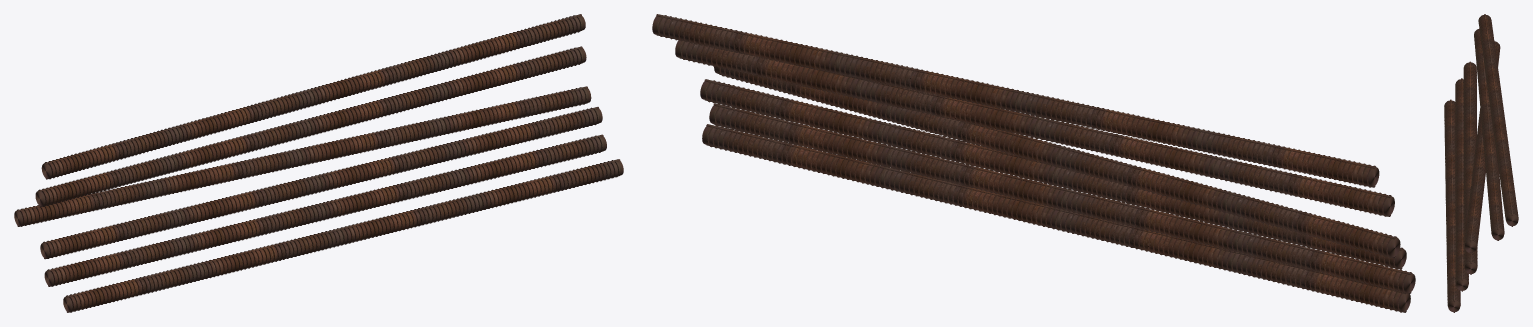
File: EST-ACO-007_anim.glb
3 views of the same model, side by side, from view 1: azimuth 30°, elevation 25°; view 2: azimuth 150°, elevation 25°; view 3: azimuth 270°, elevation 25° (orthographic). The views are drawn at different scales.
Parts seen in each view (by area): view 1: EST-ACO-007_anim3, EST-ACO-007_anim1, EST-ACO-007_anim2, EST-ACO-007_anim0, EST-ACO-007_anim4, EST-ACO-007_anim5; view 2: EST-ACO-007_anim5, EST-ACO-007_anim1, EST-ACO-007_anim4, EST-ACO-007_anim0, EST-ACO-007_anim3, EST-ACO-007_anim2; view 3: EST-ACO-007_anim5, EST-ACO-007_anim4, EST-ACO-007_anim0, EST-ACO-007_anim2, EST-ACO-007_anim1, EST-ACO-007_anim3.
Boxes of the visible parts, x1,y1,x2,y2 form: EST-ACO-007_anim3: (14,86,591,226); EST-ACO-007_anim1: (44,134,606,286); EST-ACO-007_anim2: (40,107,602,259); EST-ACO-007_anim0: (63,159,623,312); EST-ACO-007_anim4: (35,46,586,207); EST-ACO-007_anim5: (41,14,585,179); EST-ACO-007_anim5: (652,14,1379,187); EST-ACO-007_anim1: (709,103,1415,293); EST-ACO-007_anim4: (675,40,1394,216); EST-ACO-007_anim0: (702,124,1410,312); EST-ACO-007_anim3: (714,66,1400,258); EST-ACO-007_anim2: (700,79,1406,269); EST-ACO-007_anim5: (1478,14,1518,226); EST-ACO-007_anim4: (1474,28,1504,240); EST-ACO-007_anim0: (1444,99,1460,312); EST-ACO-007_anim2: (1463,61,1477,274); EST-ACO-007_anim1: (1455,78,1468,291); EST-ACO-007_anim3: (1464,41,1500,253).
Bounding box in the file's own units: 1.04 × 0.228 × 0.1569.
1 material, 1 textured.
